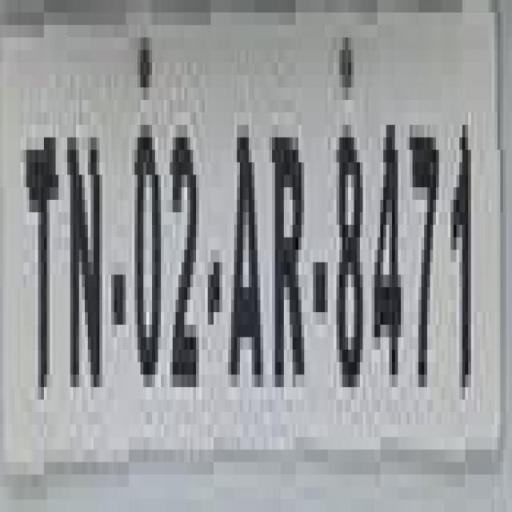number plate: (23, 0, 512, 487)
